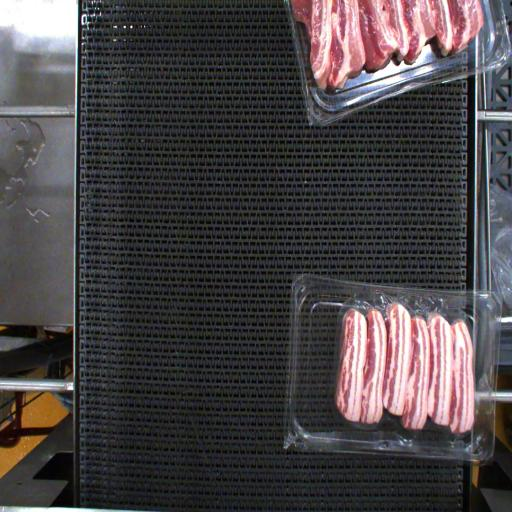unsealed: (327, 287, 488, 438)
